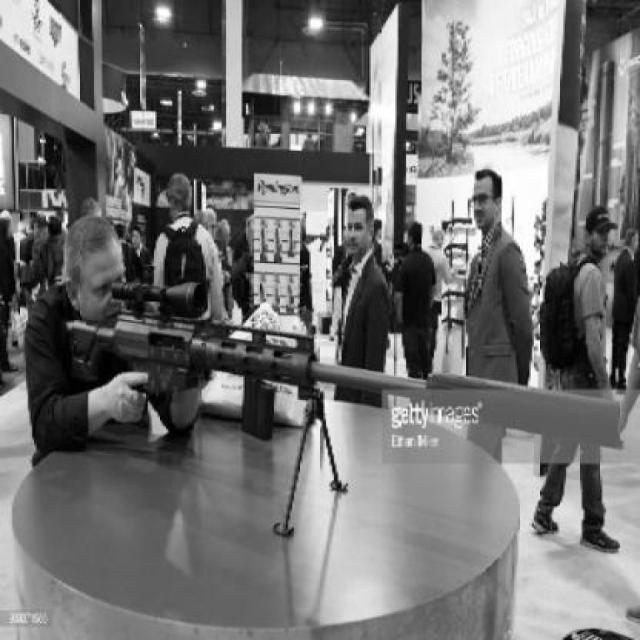weapon: (78, 282, 640, 453), (439, 215, 475, 232), (270, 276, 284, 312), (272, 225, 285, 263), (259, 224, 270, 265), (443, 240, 469, 257), (286, 221, 297, 259), (286, 275, 297, 311), (440, 288, 469, 301), (439, 315, 466, 328), (258, 278, 268, 306), (451, 266, 469, 277)
